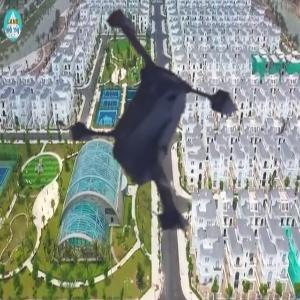drone: (46, 25, 297, 276)
